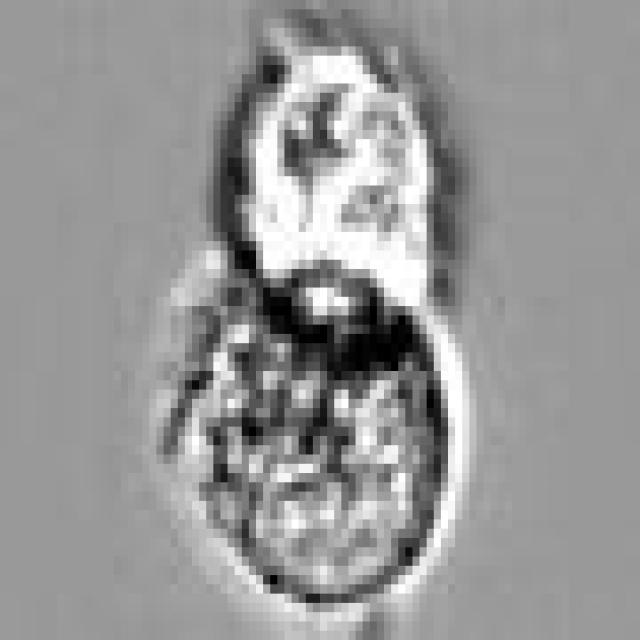Cancer Cell: (185, 250, 462, 603)
WBC: (242, 46, 441, 325)
